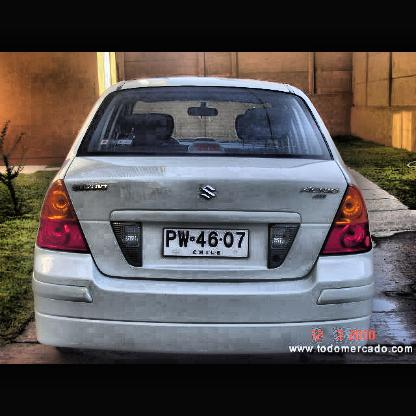Suzuki Aerio Sedan 2007: (32, 77, 375, 358)
